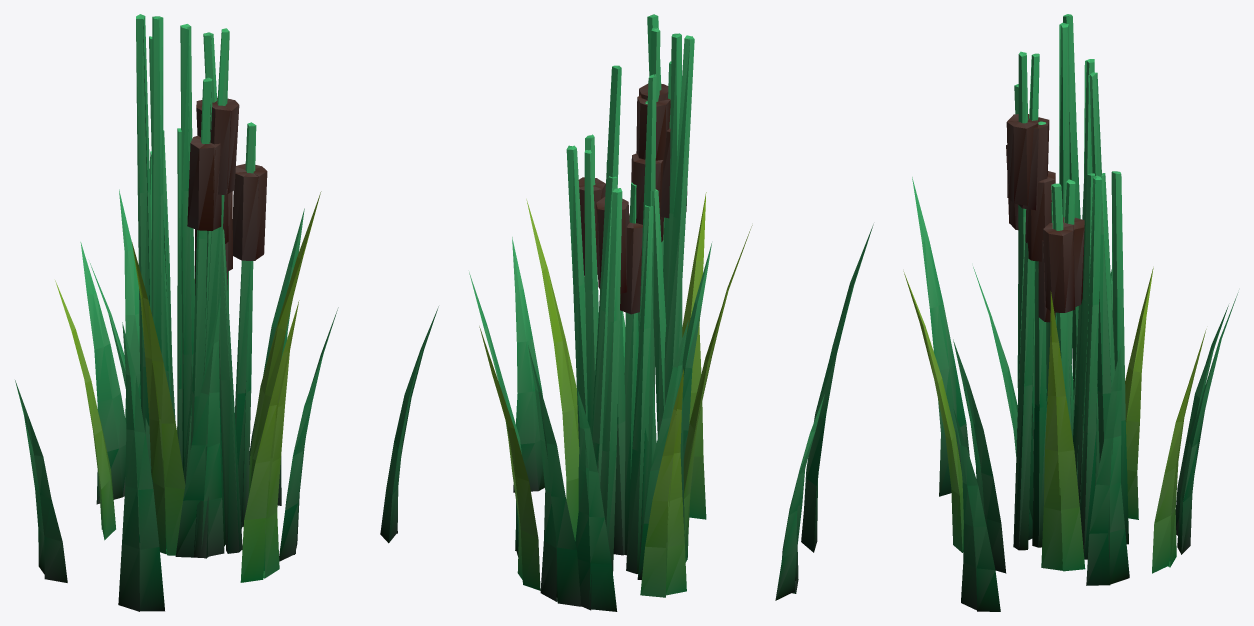
Rendered from vegetasi_reeds_emerald_56379.glb.
3 views of the same model, side by side, from view 1: azimuth 30°, elevation 25°; view 2: azimuth 150°, elevation 25°; view 3: azimuth 270°, elevation 25° (orthographic). The views are drawn at different scales.
Visible parts, largest first — view 1: Alang_Alang_Air_Sungai; view 2: Alang_Alang_Air_Sungai; view 3: Alang_Alang_Air_Sungai.
Boxes of the visible parts, x1,y1,x2,y2 form: Alang_Alang_Air_Sungai: (15, 14, 438, 611); Alang_Alang_Air_Sungai: (469, 14, 873, 611); Alang_Alang_Air_Sungai: (903, 14, 1238, 611).
Bounding box in the file's own units: 2.06 × 2.86 × 1.74.
